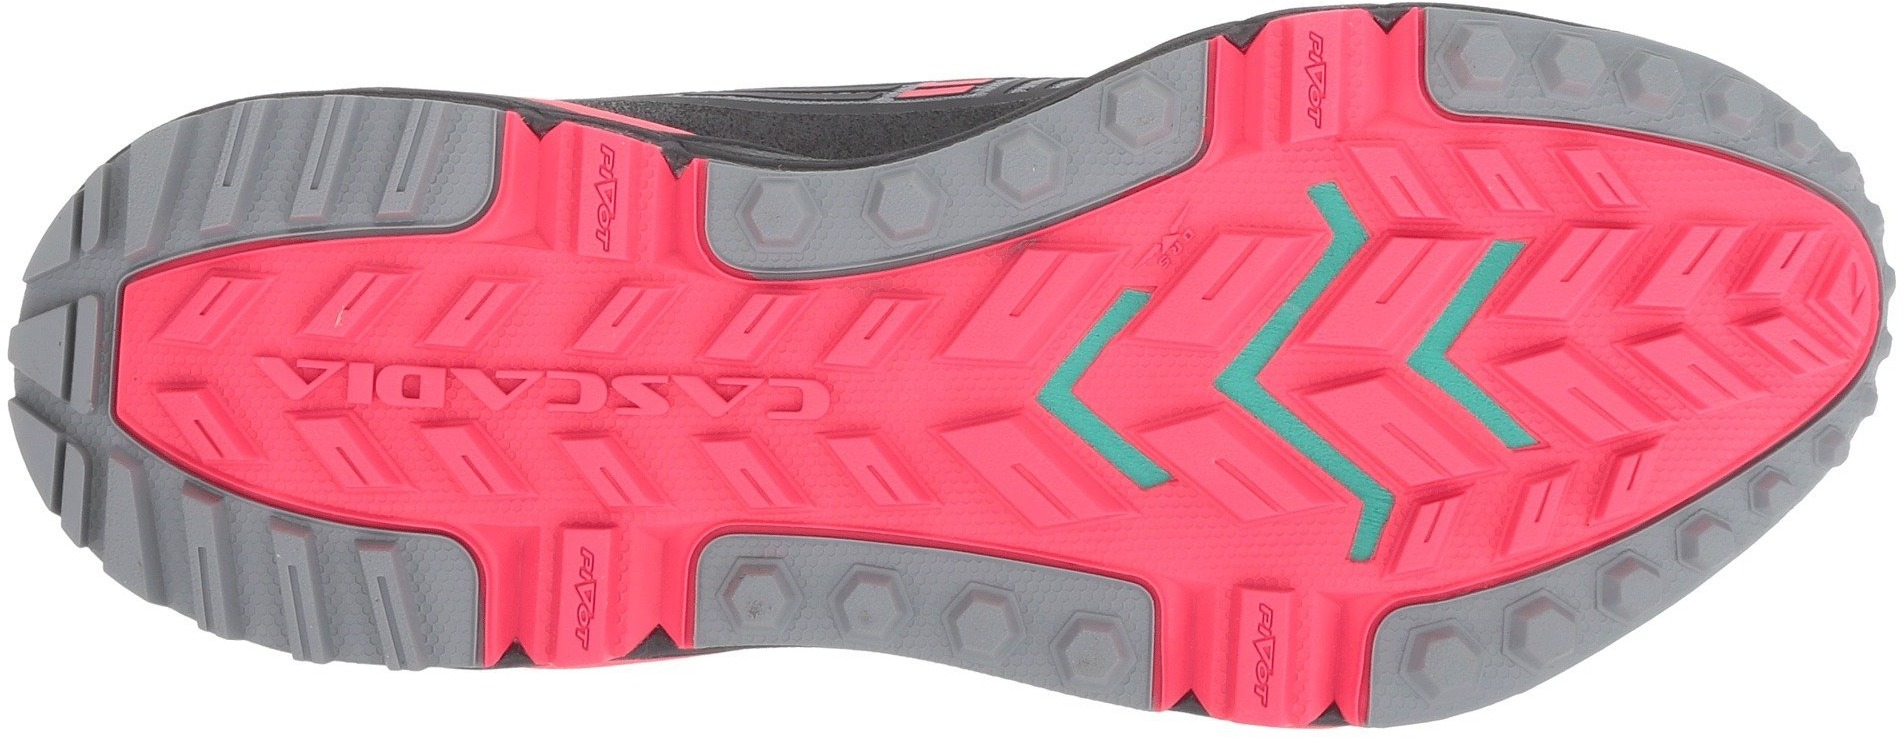polygon: (939, 564, 1043, 672), (727, 171, 831, 278), (1491, 581, 1603, 680), (715, 549, 806, 649), (1602, 38, 1701, 125), (1433, 11, 1517, 110), (1402, 619, 1491, 703), (988, 135, 1070, 212)
quad: (1537, 168, 1787, 452), (832, 286, 1035, 511), (1356, 120, 1512, 279), (1146, 203, 1300, 354)
text: (259, 336, 346, 425), (639, 348, 726, 437), (363, 344, 449, 433), (747, 359, 835, 445), (552, 544, 619, 629), (461, 352, 537, 427), (1290, 33, 1334, 96)
